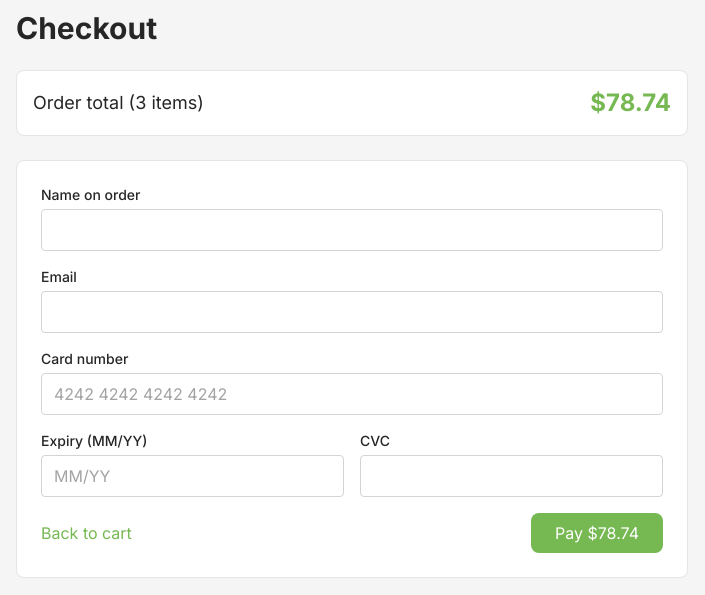
Test: CheckoutPage › shows a confirmation and refreshes the cart after successful payment
The width and height of the screenshot is (705, 595).
Type "Alice" into the field labelled "Name on order" at (352, 230), box [41,209,663,251]
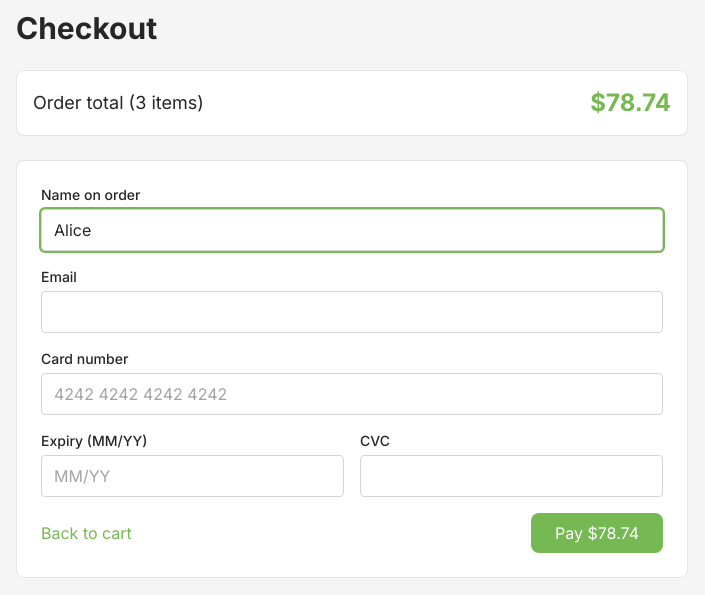
Type "alice@example.com" into the field labelled "Email" at (352, 312), box [41,291,663,333]
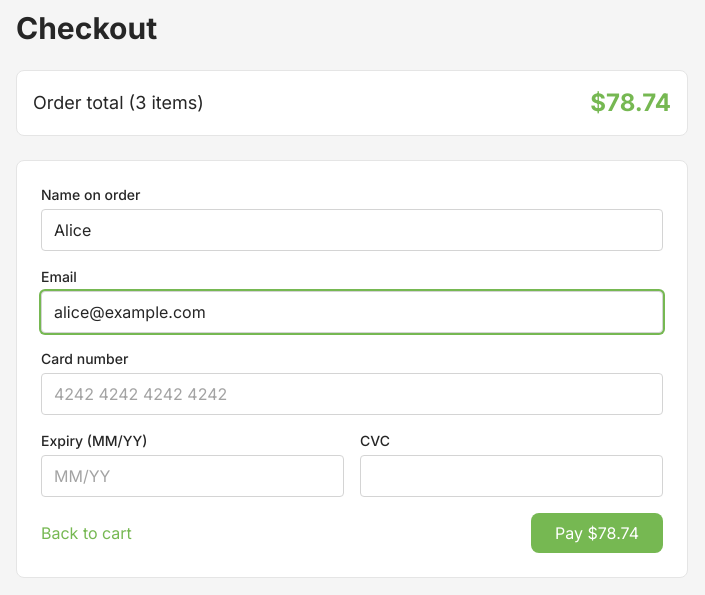
Type "4242424242424242" into the field labelled "Card number" at (352, 394), box [41,373,663,415]
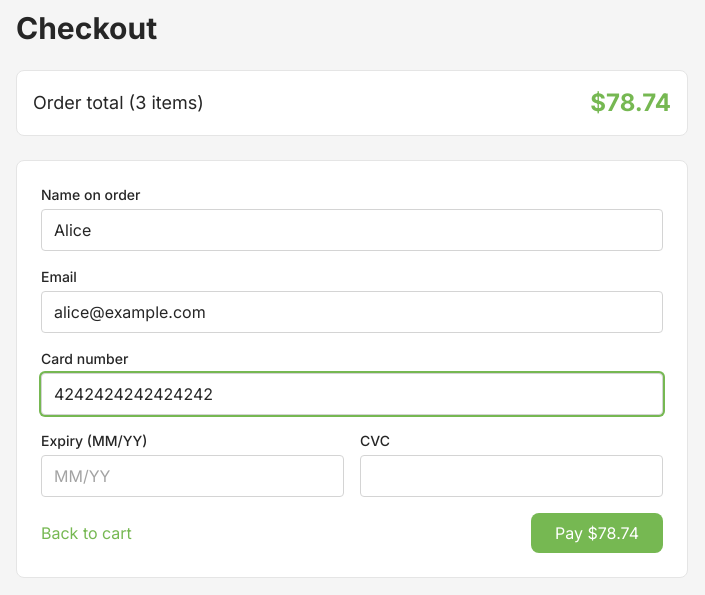
Type "12/40" into the field labelled "Expiry (MM/YY)" at (192, 476), box [41,455,344,497]
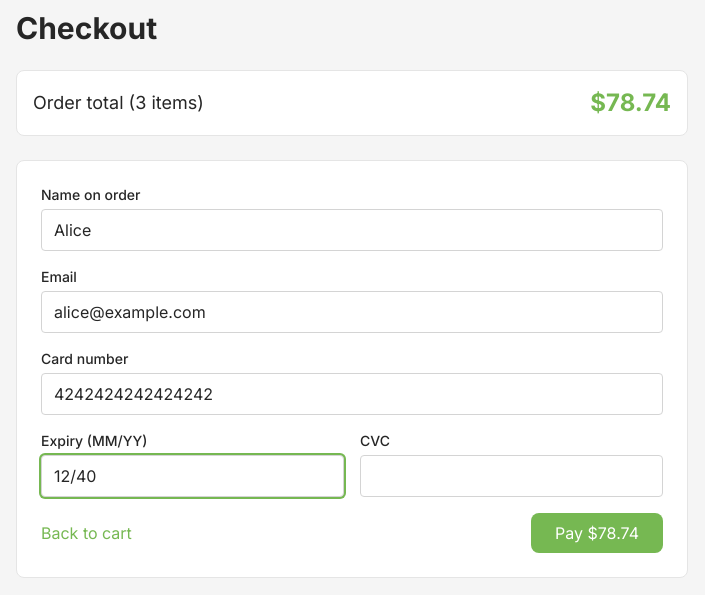
Type "123" into the field labelled "CVC" at (512, 476), box [360,455,663,497]
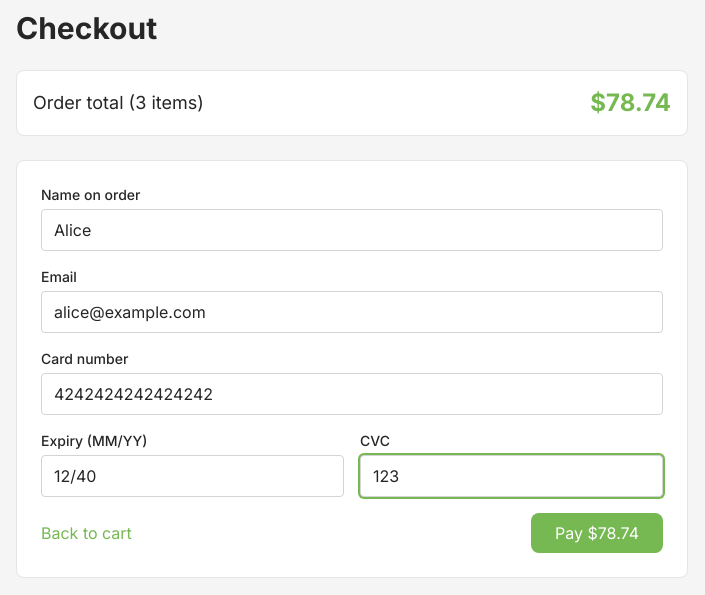
Click the button "Pay $78.74" at (597, 533), box [531,513,663,553]
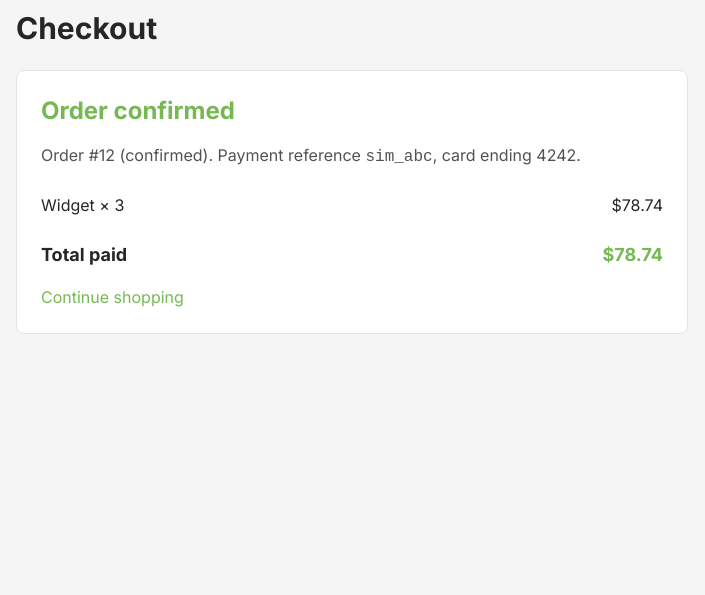
Result: the heading "Order confirmed" is shown at [41,96,235,125]
Result: the text "Order #12" is shown at [41,143,663,169]
